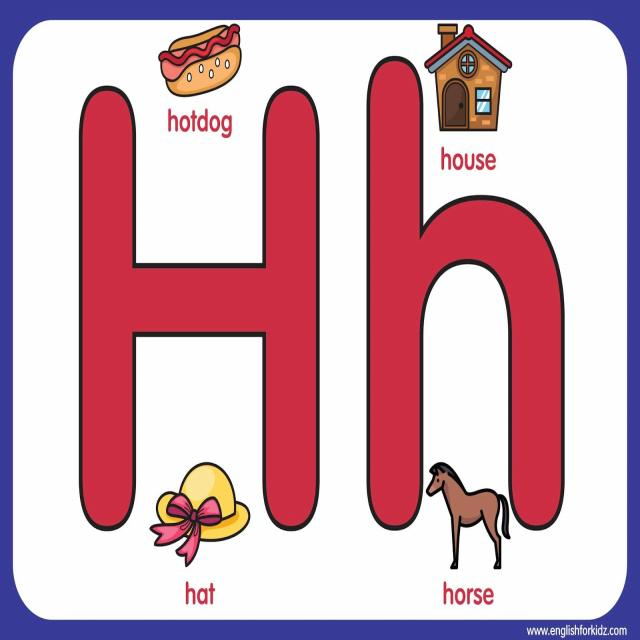H: (39, 42, 343, 577)
